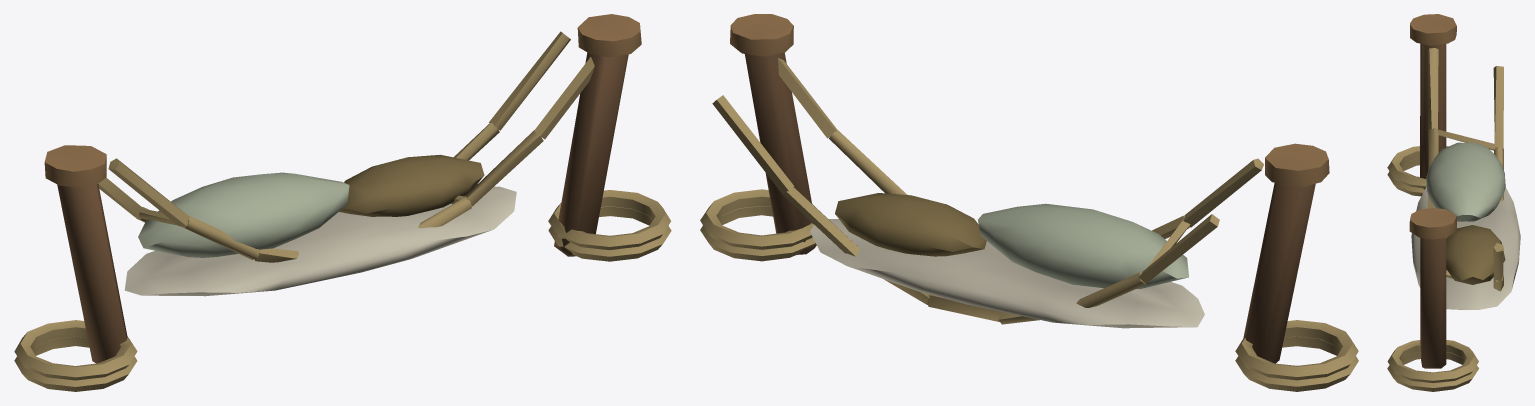
The model's file is hammock_rig_b_lod1.glb.
3 renders of one model, left to right at view 1: azimuth 30°, elevation 25°; view 2: azimuth 150°, elevation 25°; view 3: azimuth 270°, elevation 25°, orthographic. The views are drawn at different scales.
Parts seen in each view (by area): view 1: Surface.001; view 2: Surface.001; view 3: Surface.001.
Boxes of the visible parts, x1,y1,x2,y2 form: Surface.001: (14,14,671,391); Surface.001: (700,14,1358,391); Surface.001: (1387,14,1520,391).
Bounding box in the file's own units: 4.2 × 1.36 × 1.02.
